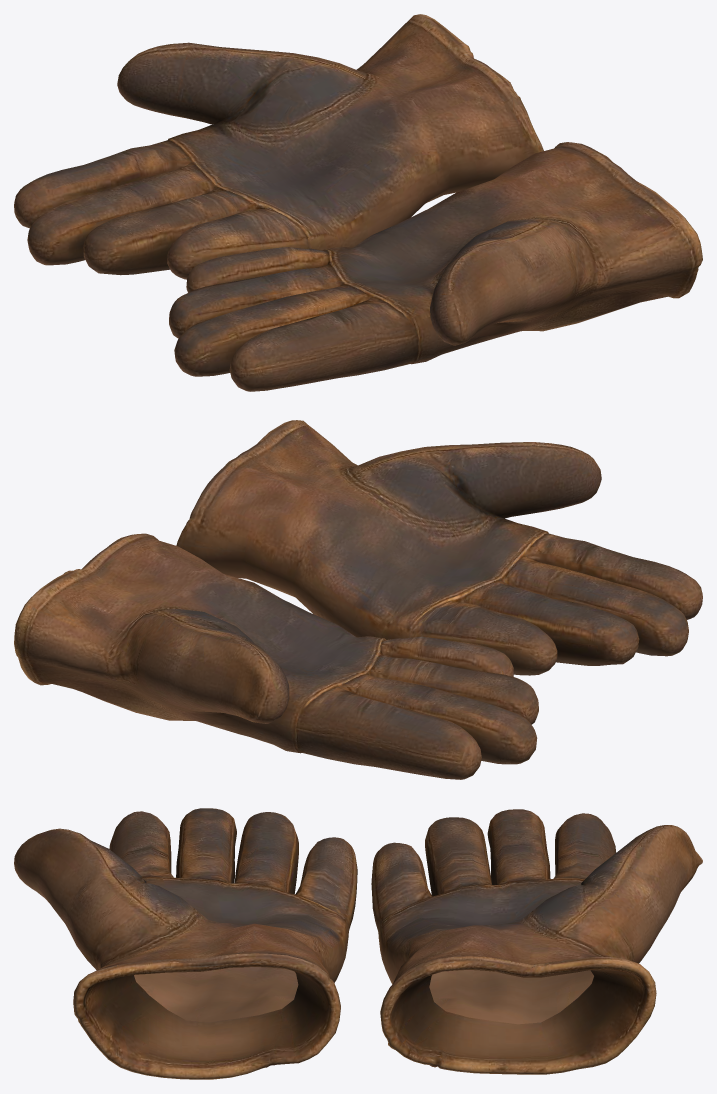
The model's file is gloves.glb.
3 views of the same model, one above another, from view 1: azimuth 30°, elevation 25°; view 2: azimuth 150°, elevation 25°; view 3: azimuth 270°, elevation 25° (orthographic). The views are drawn at different scales.
Parts seen in each view (by area): view 1: tripo_node_22d930c7-e6f2-414c-b898-da040270137c; view 2: tripo_node_22d930c7-e6f2-414c-b898-da040270137c; view 3: tripo_node_22d930c7-e6f2-414c-b898-da040270137c.
Boxes of the visible parts, <box> form: tripo_node_22d930c7-e6f2-414c-b898-da040270137c: <box>14,14,702,391</box>; tripo_node_22d930c7-e6f2-414c-b898-da040270137c: <box>14,420,702,779</box>; tripo_node_22d930c7-e6f2-414c-b898-da040270137c: <box>14,808,702,1079</box>.
Bounding box in the file's own units: 0.7935 × 0.2251 × 0.9995.
1 material, 1 textured.
